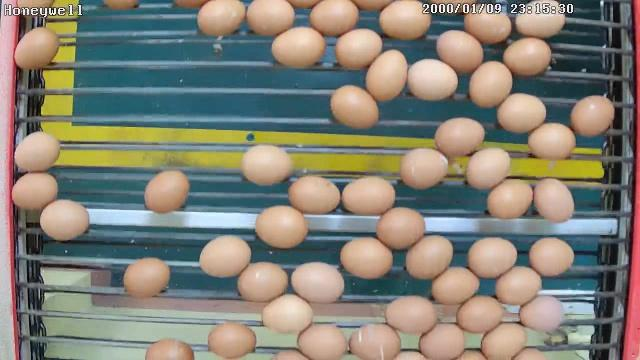egg: (338, 234, 396, 280), (269, 26, 328, 70), (375, 205, 428, 253), (289, 260, 346, 304), (404, 234, 456, 282), (254, 203, 308, 249), (287, 173, 342, 218), (405, 58, 461, 102), (330, 82, 380, 131), (242, 143, 296, 188), (342, 173, 396, 218), (466, 236, 520, 281), (364, 48, 408, 103), (496, 90, 548, 136), (433, 28, 486, 73), (199, 234, 252, 279), (261, 291, 314, 336), (384, 294, 438, 338), (237, 260, 290, 304), (376, 0, 434, 40), (468, 60, 516, 108), (462, 2, 514, 46), (38, 199, 91, 242), (142, 168, 190, 215), (333, 28, 385, 71), (398, 148, 451, 190), (429, 264, 482, 306), (13, 25, 61, 71), (518, 290, 566, 336), (502, 36, 554, 78), (294, 319, 348, 359), (122, 256, 172, 299), (526, 120, 577, 162), (568, 93, 616, 137), (514, 0, 568, 39), (348, 320, 402, 359), (10, 170, 60, 212), (532, 175, 574, 225), (494, 264, 544, 306), (434, 116, 486, 156), (13, 130, 62, 172), (457, 292, 506, 334), (478, 319, 528, 360), (195, 0, 248, 38), (307, 1, 361, 38), (206, 321, 258, 359), (466, 148, 512, 190), (528, 236, 574, 278), (244, 0, 296, 37), (418, 321, 467, 360)
